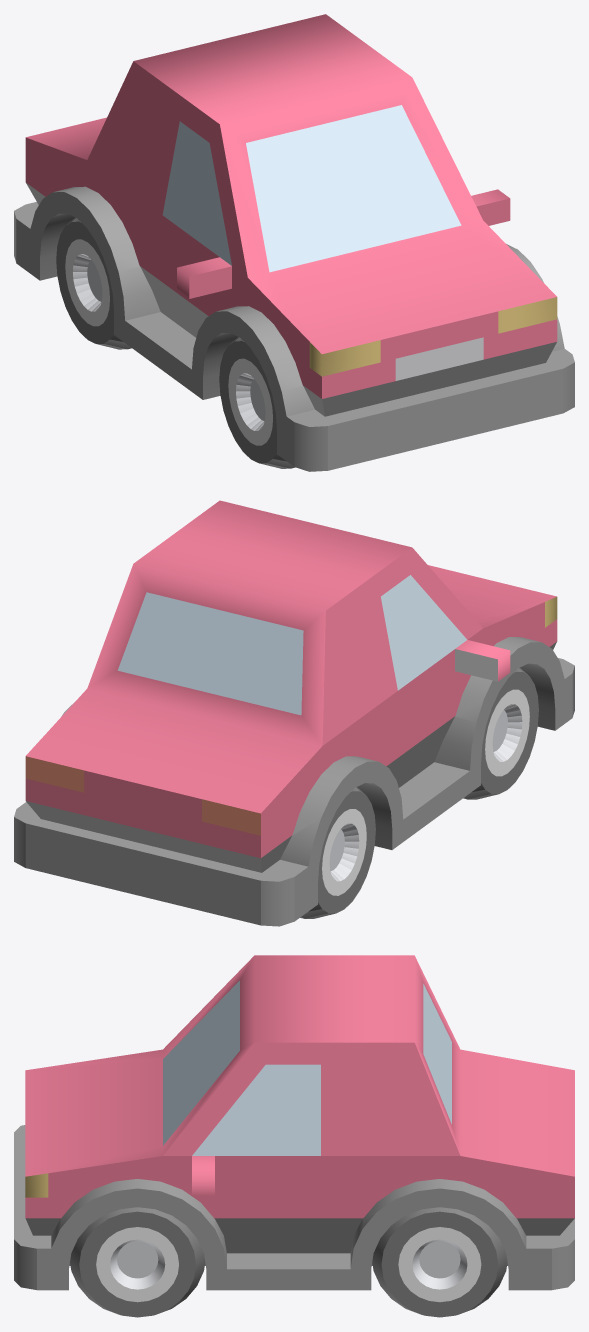
File: car10.fbx
The picture shows the model from 3 angles, top to bottom: view 1: azimuth 30°, elevation 25°; view 2: azimuth 150°, elevation 25°; view 3: azimuth 270°, elevation 25°; orthographic projection. The views are drawn at different scales.
Parts seen in each view (by area): view 1: car.009; view 2: car.009; view 3: car.009.
Part boxes in pixels (left/top/right/bottom): car.009: left=14, top=14, right=574, bottom=471; car.009: left=14, top=500, right=574, bottom=926; car.009: left=14, top=955, right=574, bottom=1317.
Size of the model in its own units: 240 by 208 by 392.
